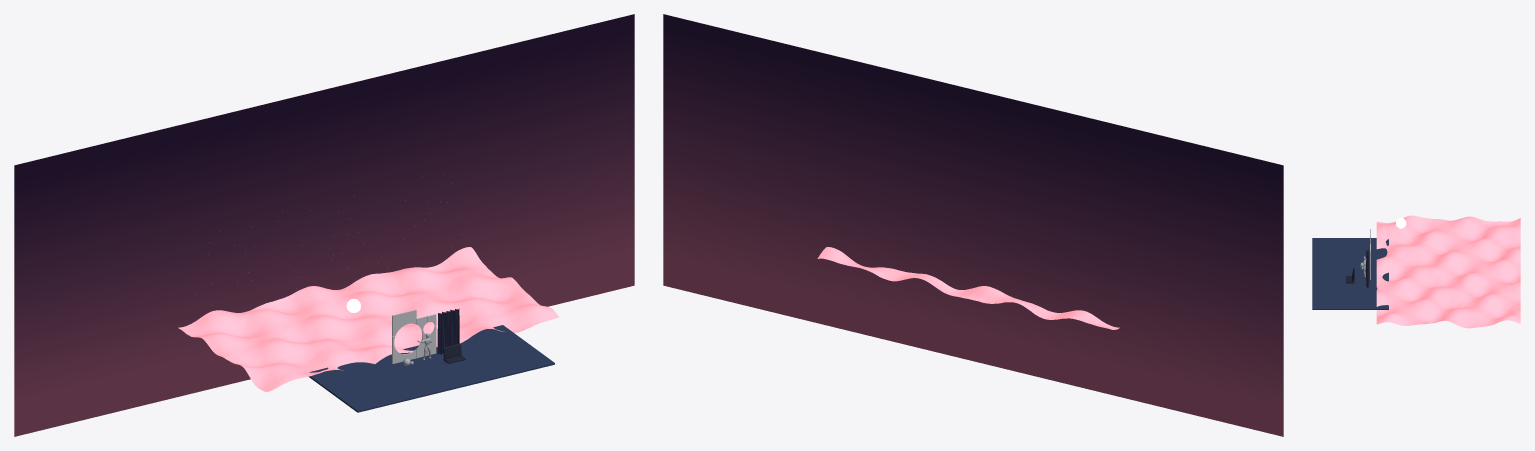
The model's file is dream-scene.glb.
3 views of the same model, side by side, from view 1: azimuth 30°, elevation 25°; view 2: azimuth 150°, elevation 25°; view 3: azimuth 270°, elevation 25° (orthographic). The views are drawn at different scales.
Visible parts, largest first — view 1: Blue hour horizon, Liquid dunes / ridge 1, Reflective room floor, Full height folded curtain; view 2: Blue hour horizon, Liquid dunes / ridge 1; view 3: Liquid dunes / ridge 1, Reflective room floor.
Boxes of the visible parts, <box> form: Blue hour horizon: <box>14,14,634,436</box>; Liquid dunes / ridge 1: <box>178,247,559,392</box>; Reflective room floor: <box>309,325,554,412</box>; Full height folded curtain: <box>437,308,459,354</box>; Blue hour horizon: <box>663,14,1283,436</box>; Liquid dunes / ridge 1: <box>817,247,1119,329</box>; Liquid dunes / ridge 1: <box>1376,215,1520,328</box>; Reflective room floor: <box>1312,238,1388,309</box>.
Bounding box in the file's own units: 110 × 46 × 43.4.
Materials: 11 (1 with a texture image).
